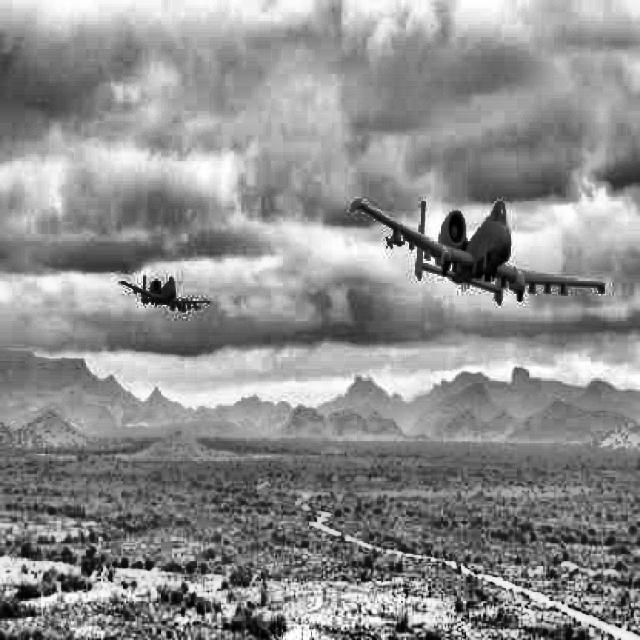A10: (350, 200, 604, 306), (119, 276, 210, 312)
